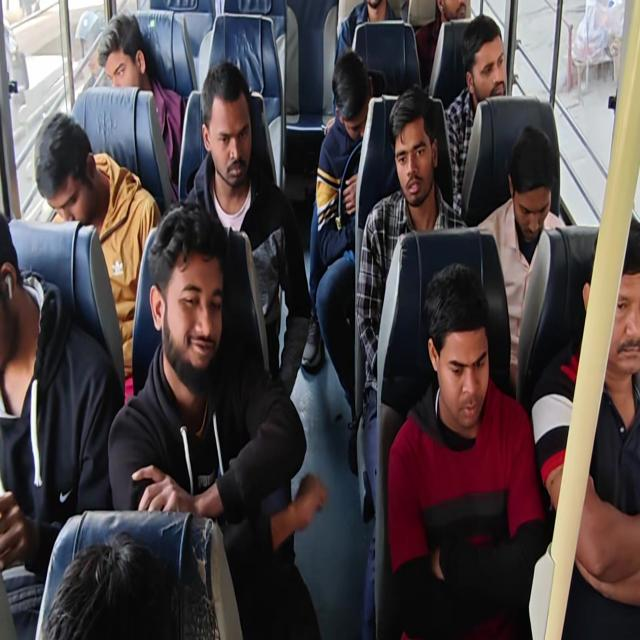person: (43, 525, 187, 640), (420, 262, 503, 445), (152, 201, 229, 396), (580, 228, 640, 419), (194, 54, 260, 195), (31, 106, 102, 229), (386, 82, 436, 212), (510, 125, 560, 245), (0, 200, 32, 374), (92, 2, 148, 98), (321, 50, 374, 136), (461, 15, 511, 104), (358, 0, 402, 33), (432, 1, 473, 17)
